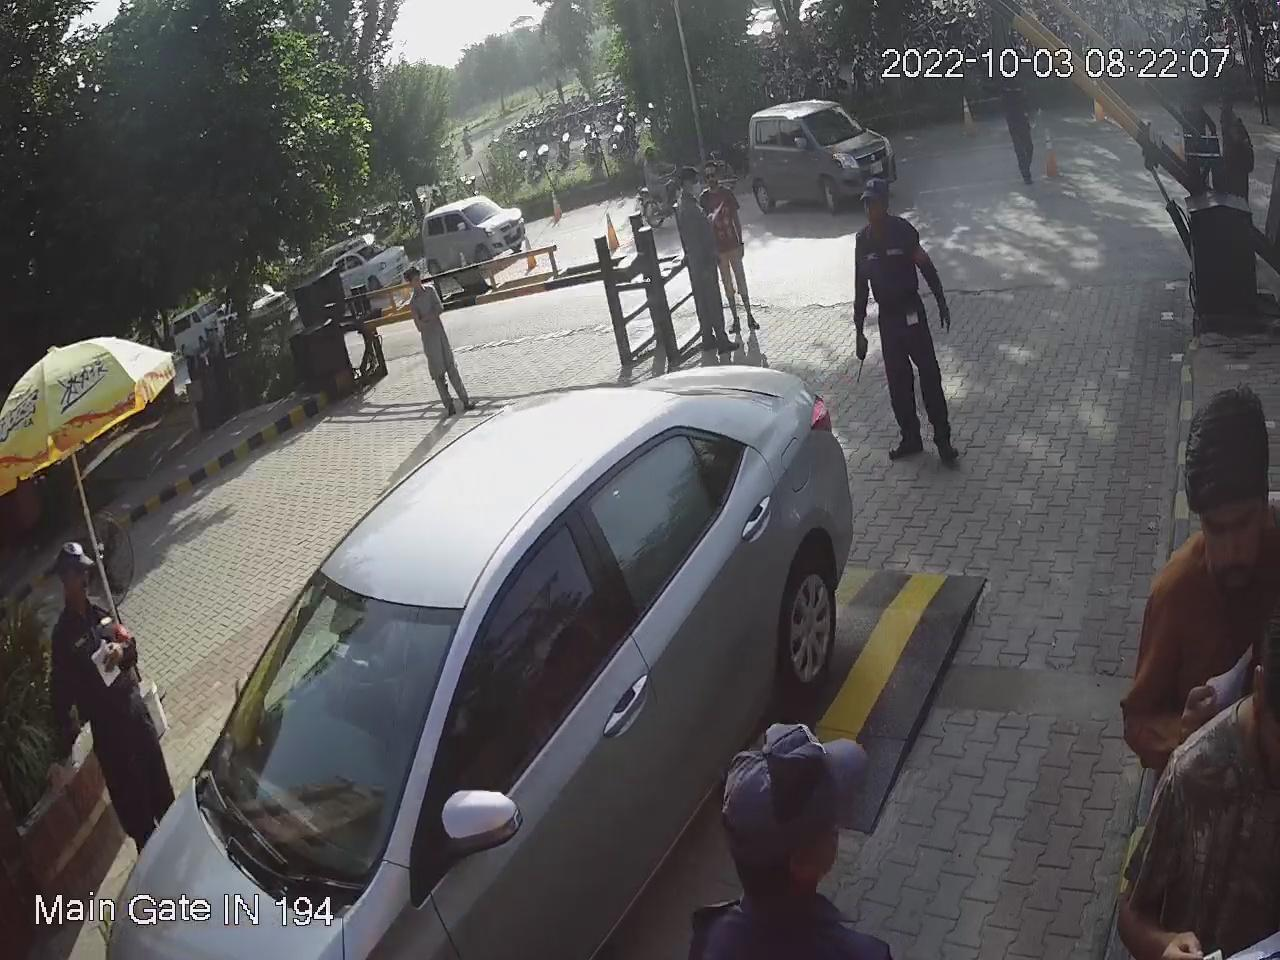windshield: (201, 568, 483, 913)
